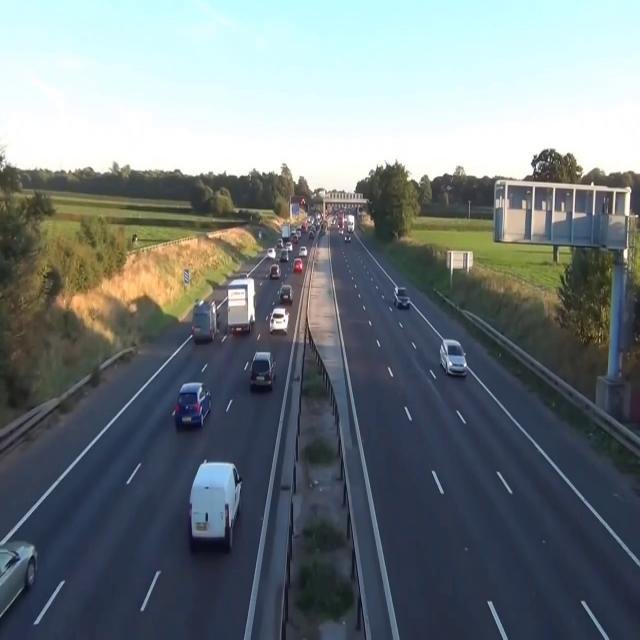belum terisi: (184, 449, 246, 560), (220, 268, 262, 345), (172, 366, 216, 435), (434, 323, 474, 393), (188, 293, 222, 353), (246, 344, 276, 400), (387, 276, 415, 324), (268, 296, 290, 340)
